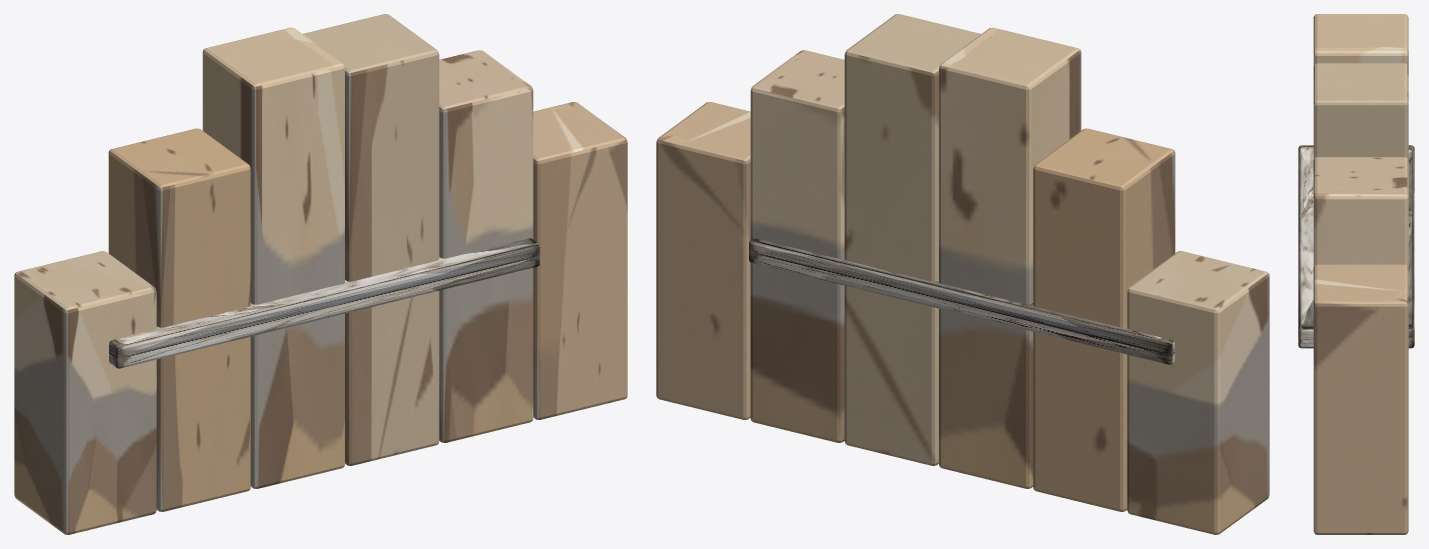
The model's file is ruin_wall_260_LOD1.glb.
3 renders of one model, left to right at view 1: azimuth 30°, elevation 25°; view 2: azimuth 150°, elevation 25°; view 3: azimuth 270°, elevation 25°, orthographic. The views are drawn at different scales.
Parts seen in each view (by area): view 1: LOD1_Profile.002, LOD1_Profile.003, LOD1_Profile.001, LOD1_Profile, LOD1_Profile.004, LOD1_Profile.005, LOD1_MantleShelf; view 2: LOD1_Profile.002, LOD1_Profile.003, LOD1_Profile.001, LOD1_Profile, LOD1_Profile.004, LOD1_Profile.005, LOD1_MantleShelf; view 3: LOD1_Profile.005, LOD1_Profile.004, LOD1_Profile.003, LOD1_Profile.002, LOD1_MantleShelf.
Part boxes in pixels (<box>): LOD1_Profile.002: <box>202,27,344,488</box>; LOD1_Profile.003: <box>303,14,439,465</box>; LOD1_Profile.001: <box>108,128,250,511</box>; LOD1_Profile: <box>14,251,156,534</box>; LOD1_Profile.004: <box>439,50,533,442</box>; LOD1_Profile.005: <box>533,102,627,419</box>; LOD1_MantleShelf: <box>109,238,539,368</box>; LOD1_Profile.002: <box>939,27,1081,488</box>; LOD1_Profile.003: <box>844,14,980,465</box>; LOD1_Profile.001: <box>1033,128,1175,511</box>; LOD1_Profile: <box>1127,251,1269,534</box>; LOD1_Profile.004: <box>750,50,844,442</box>; LOD1_Profile.005: <box>656,102,750,419</box>; LOD1_MantleShelf: <box>749,238,1174,364</box>; LOD1_Profile.005: <box>1313,264,1408,534</box>; LOD1_Profile.004: <box>1313,157,1408,267</box>; LOD1_Profile.003: <box>1313,63,1408,159</box>; LOD1_Profile.002: <box>1313,14,1408,66</box>; LOD1_MantleShelf: <box>1298,145,1414,348</box>.
Bounding box in the file's own units: 3.79 × 2.6 × 0.76.
Materials: 2 (2 with a texture image).
